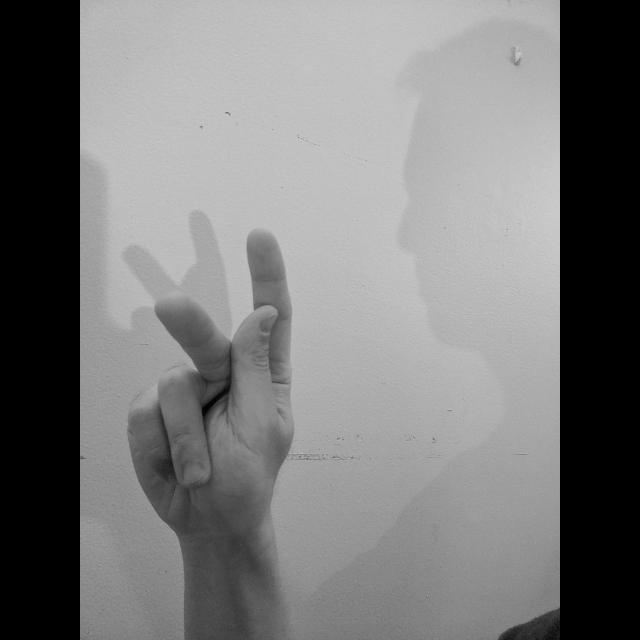K: (120, 221, 300, 549)
